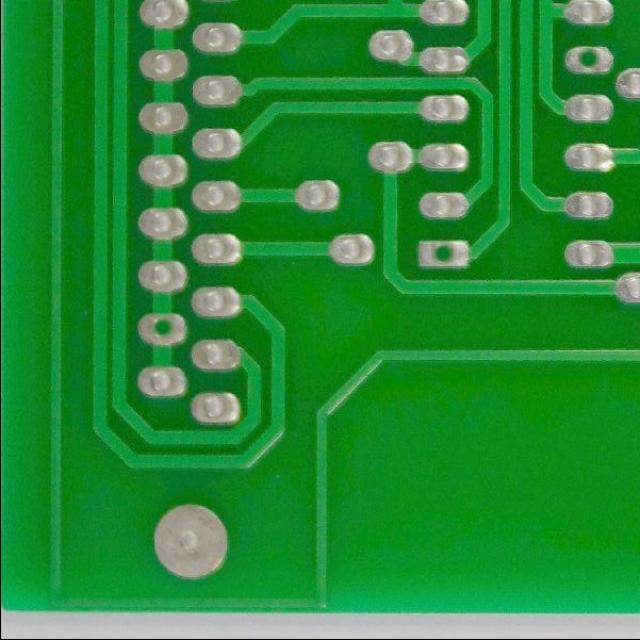missing_hole: (418, 238, 466, 272), (136, 314, 181, 348), (564, 44, 608, 76)
